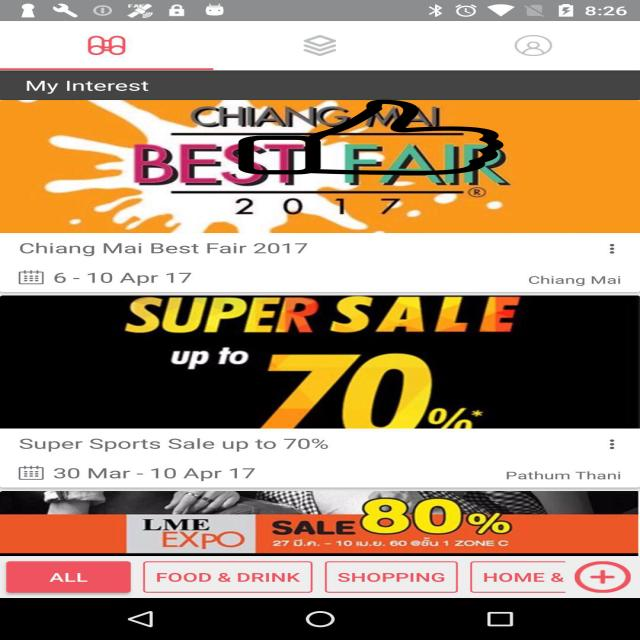privacy zuckering: (235, 100, 507, 175)
